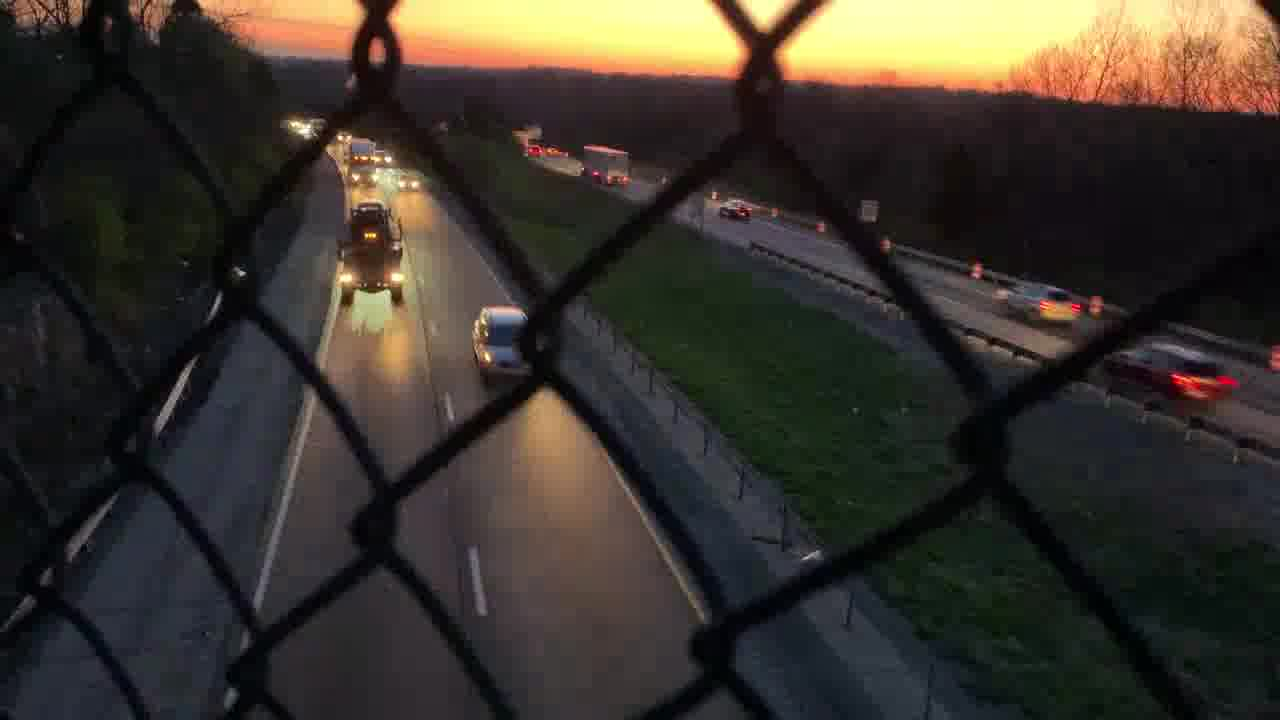heavyTruck: (335, 207, 411, 302), (579, 142, 632, 189), (344, 138, 378, 189)
largeCar: (1104, 343, 1228, 413), (468, 308, 542, 388), (998, 281, 1080, 329)
smallCar: (715, 199, 757, 226)
